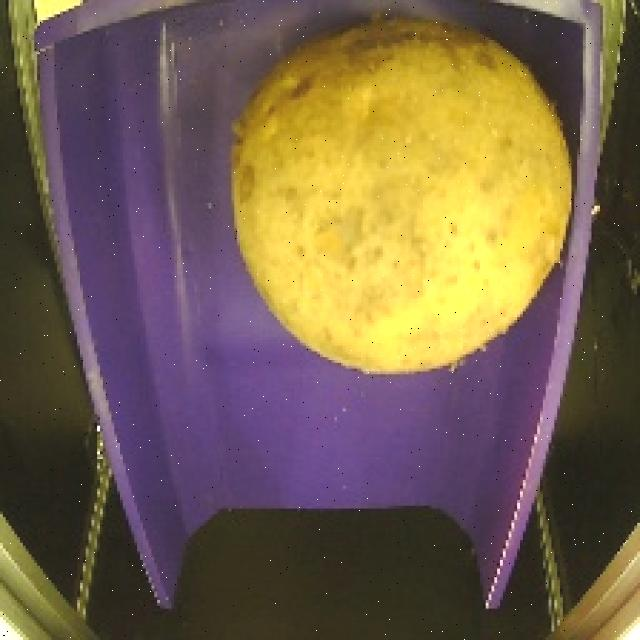full_potato: (215, 0, 580, 387)
